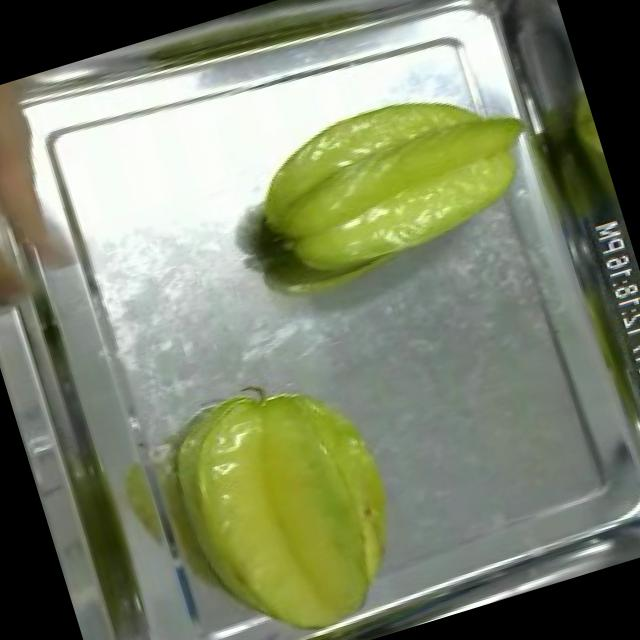fruit: (136, 348, 430, 640), (231, 57, 551, 300)
